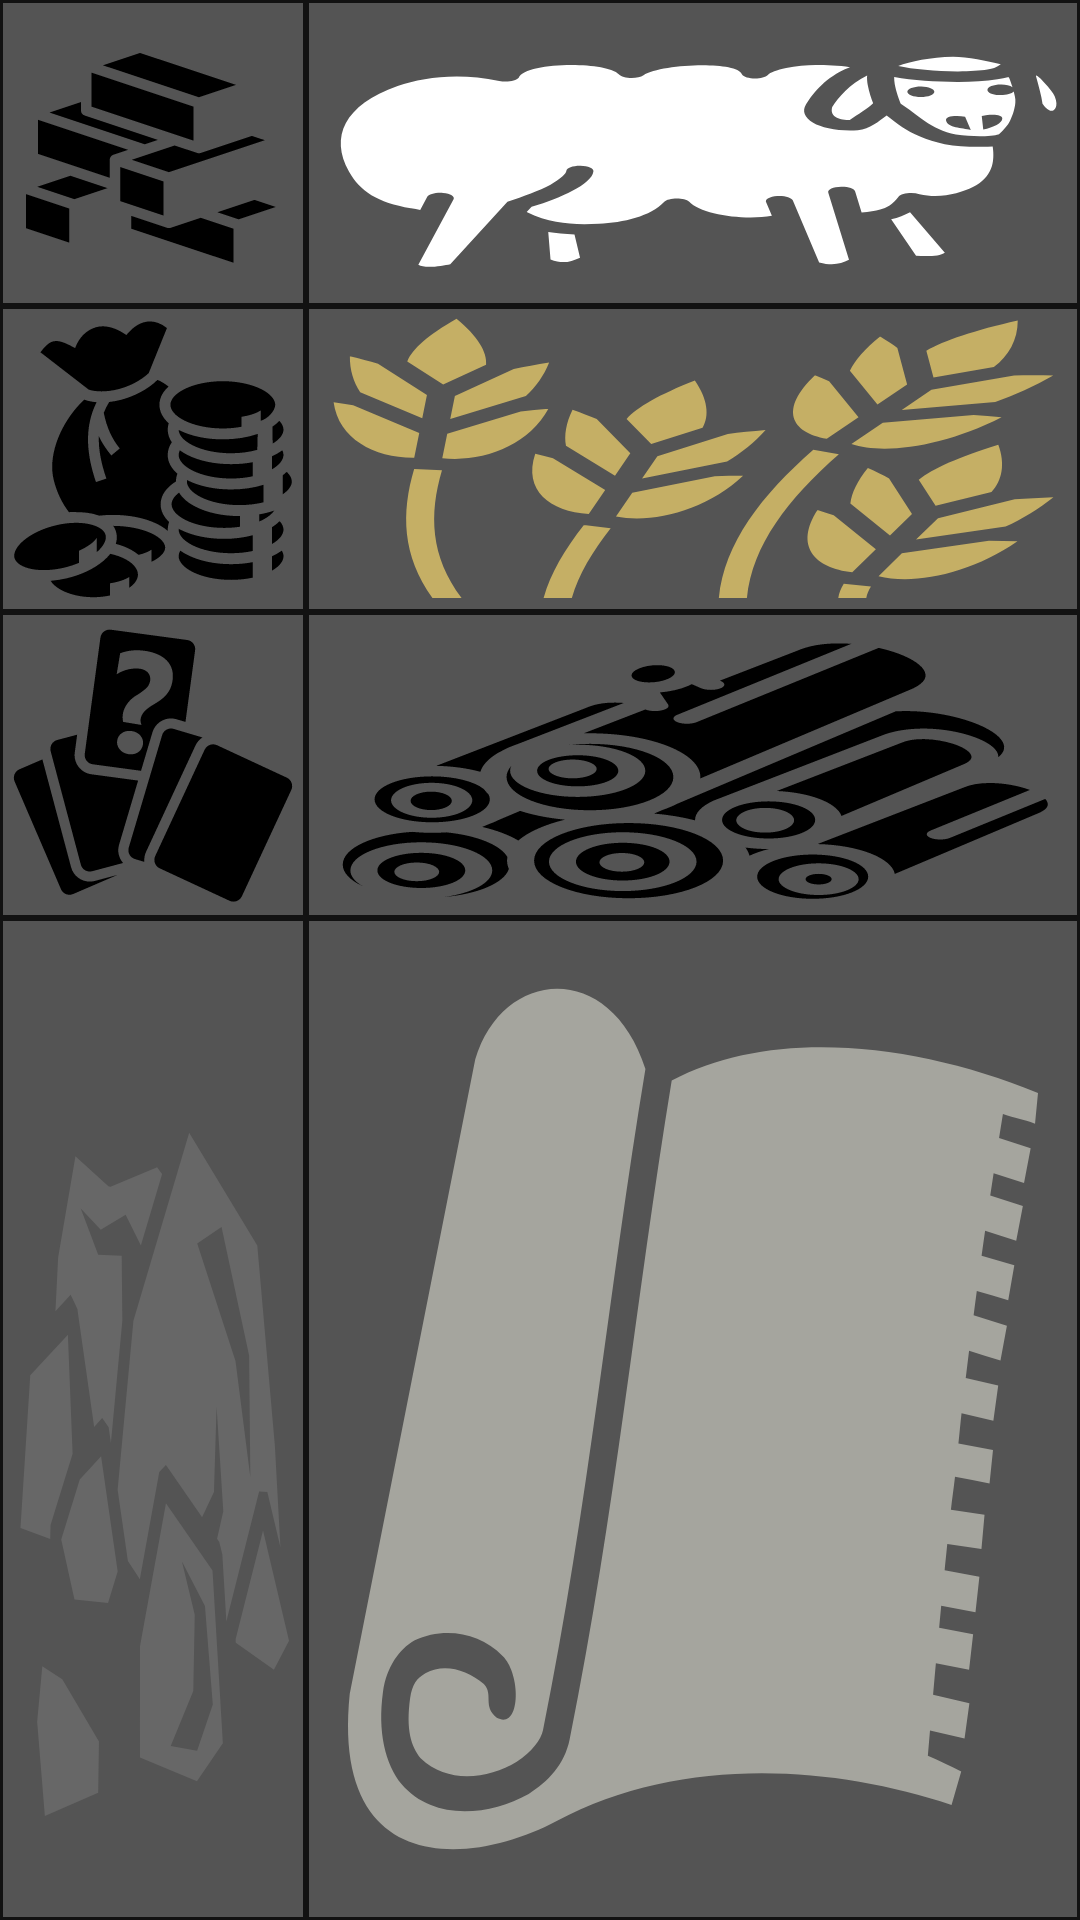

Locate icon controls on the screen. Image size 1080x1920, boxes as (x1, y1, x2, y2).
brickres: (3, 3, 303, 303)
cashres: (3, 309, 303, 609)
